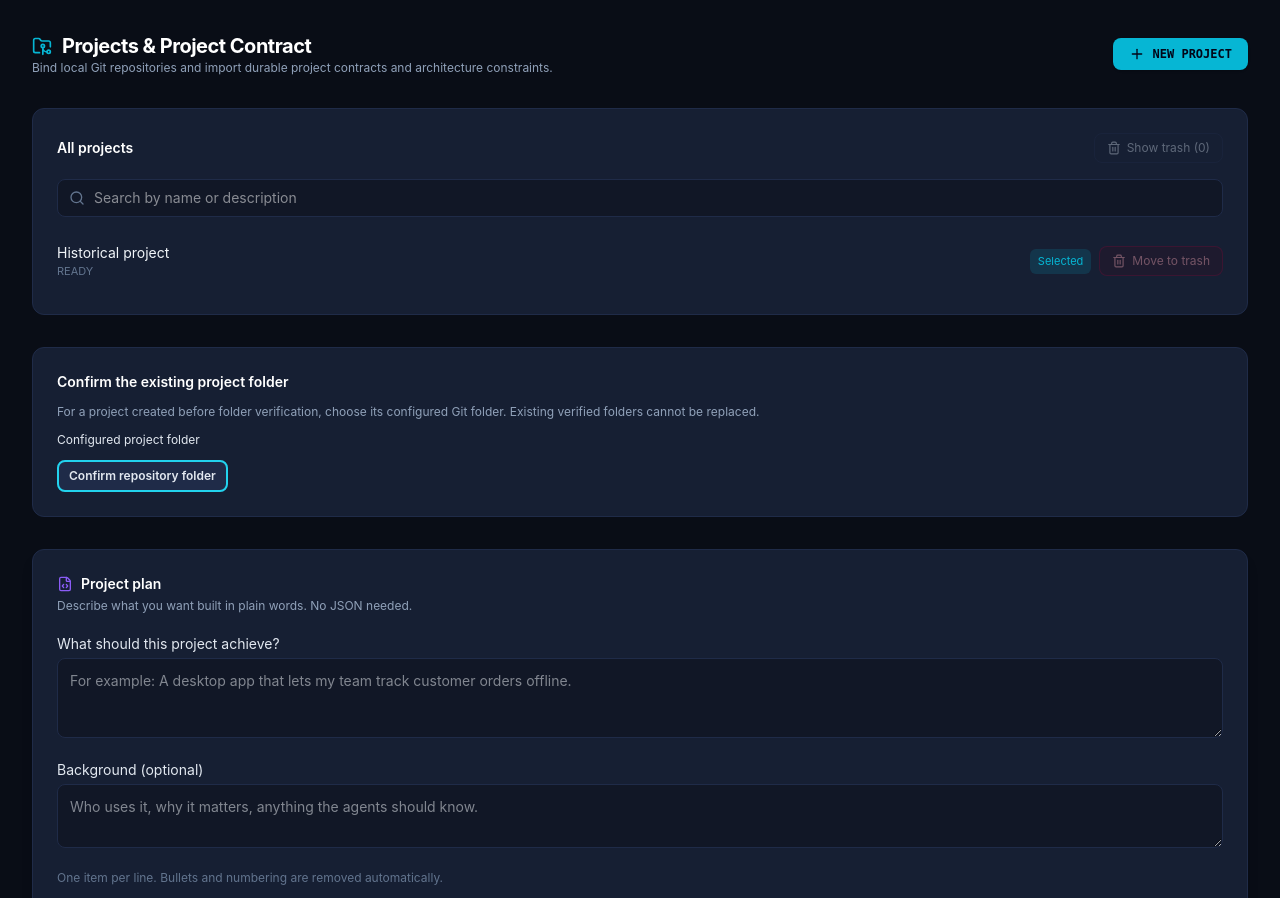
Scenario: explicit historical repository confirmation › uses native selection and the captured project ID, then refreshes after confirmed persistence
Step 1. Click the button "Confirm repository folder" → (142,476), box [57,460,228,492]
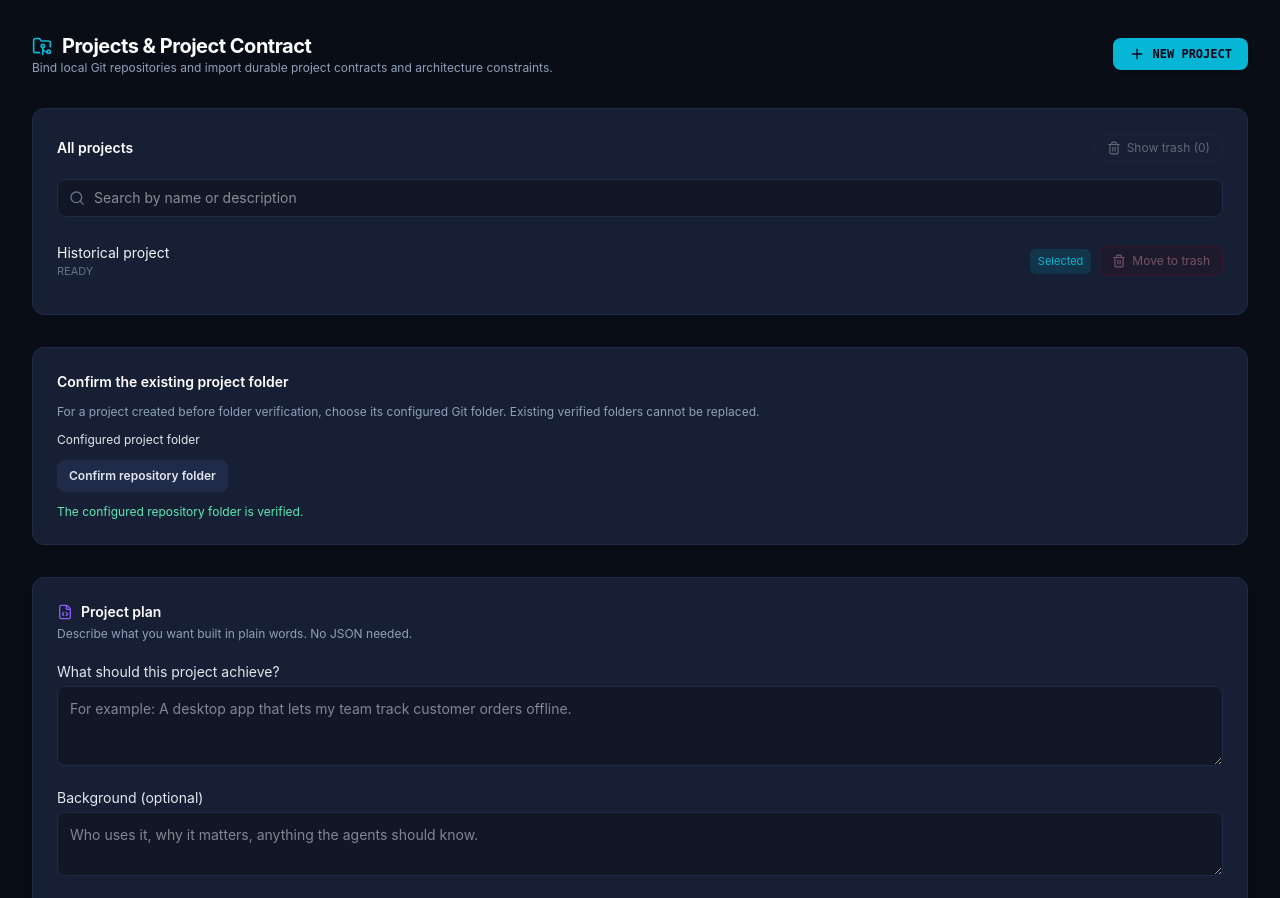
Expected: the message "The configured repository folder is verified." is shown, [57,504,303,518]
